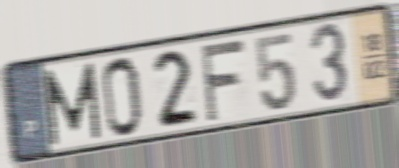0: (100, 54, 145, 139)
2: (150, 47, 201, 130)
3: (306, 19, 351, 109)
5: (253, 29, 299, 113)
F: (197, 36, 247, 125)
M: (40, 59, 104, 149)
